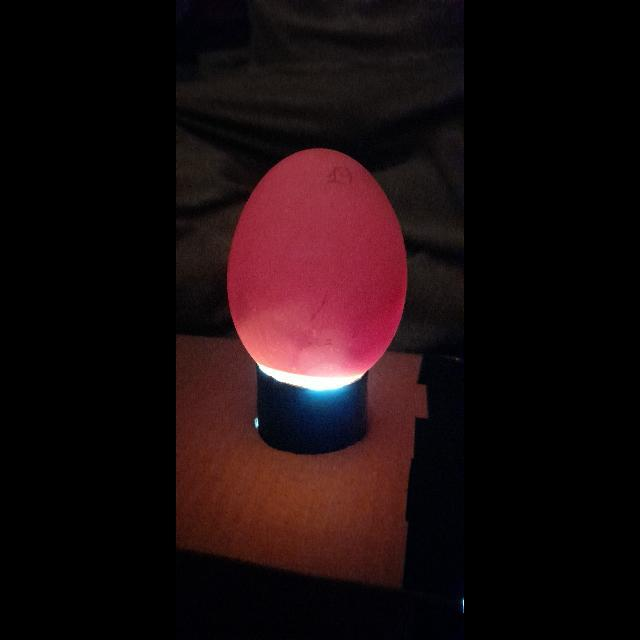Fertile: (217, 142, 416, 390)
